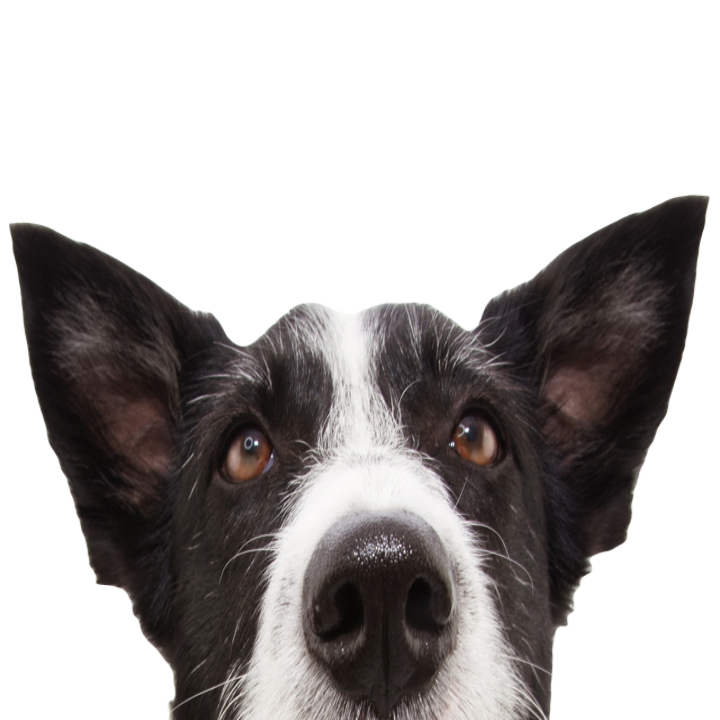Dog: (6, 193, 714, 719)
